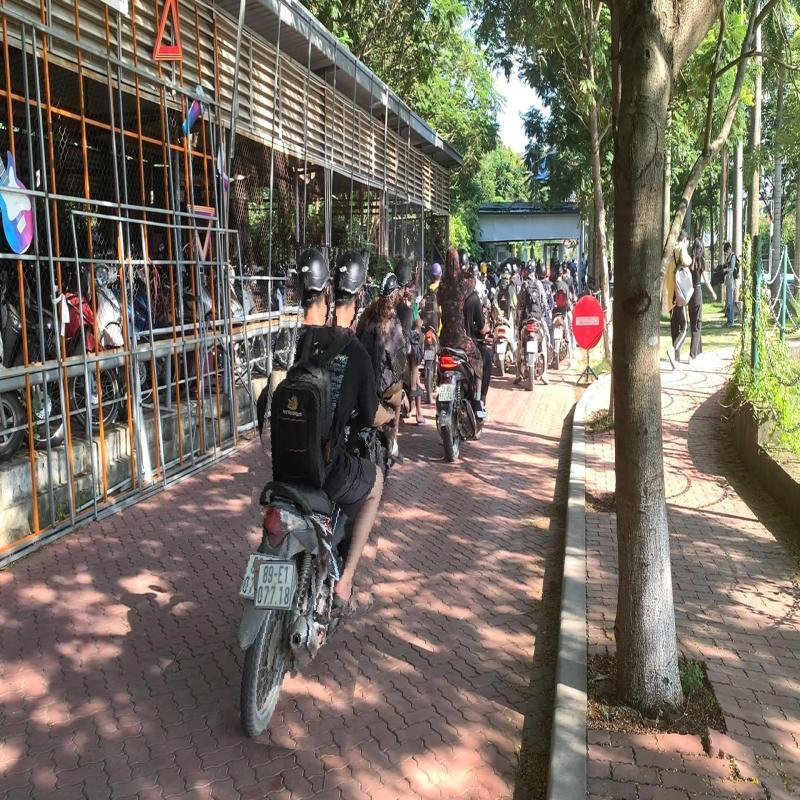helmet: (297, 247, 336, 328)
licenseplate: (254, 560, 296, 610)
motorcyclist: (233, 244, 403, 754)
